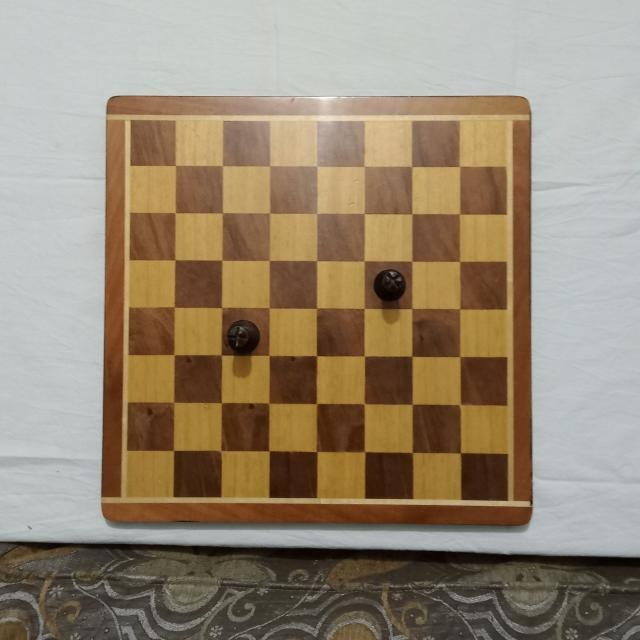black-rook: (225, 317, 261, 355), (371, 267, 406, 301)
